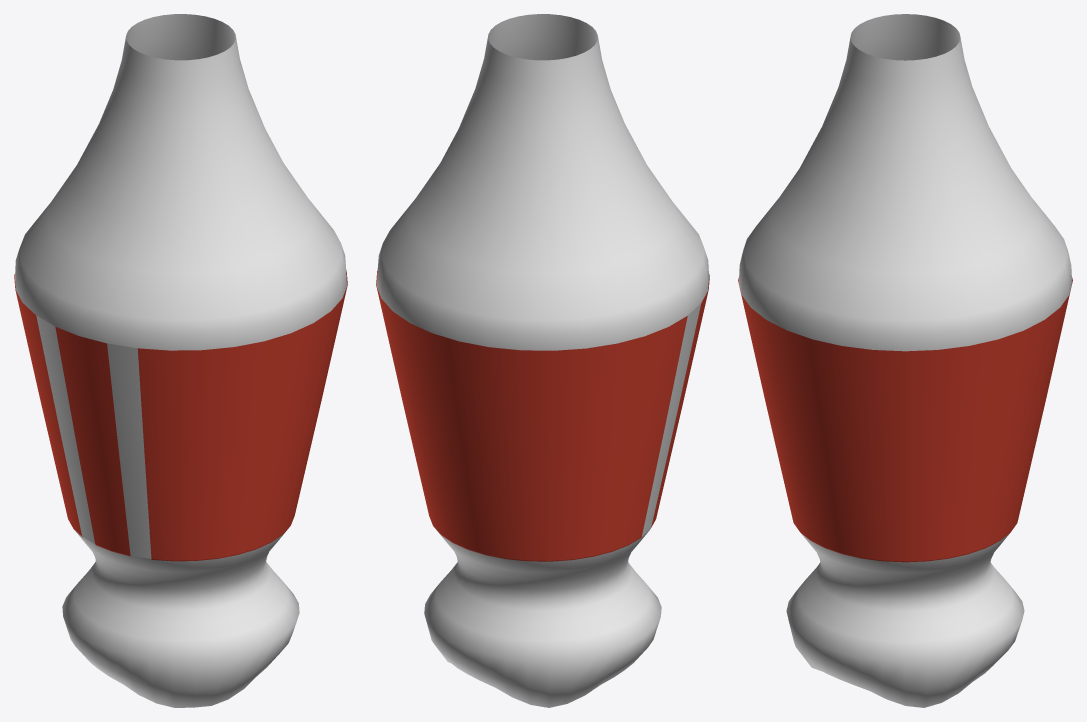
Rendered from Bouteille.fbx.
The picture shows the model from 3 angles, left to right: view 1: azimuth 30°, elevation 25°; view 2: azimuth 150°, elevation 25°; view 3: azimuth 270°, elevation 25°; orthographic projection.
Visible parts, largest first — view 1: Cylinder.001, Cylinder.006; view 2: Cylinder.001, Cylinder.006; view 3: Cylinder.001, Cylinder.006.
Boxes of the visible parts, left/top/right/bottom form: Cylinder.001: left=15, top=14, right=346, bottom=707; Cylinder.006: left=14, top=270, right=347, bottom=560; Cylinder.001: left=377, top=14, right=708, bottom=707; Cylinder.006: left=376, top=270, right=709, bottom=560; Cylinder.001: left=739, top=14, right=1071, bottom=707; Cylinder.006: left=738, top=277, right=1072, bottom=561.
Size of the model in its own units: 119 by 252 by 119.
